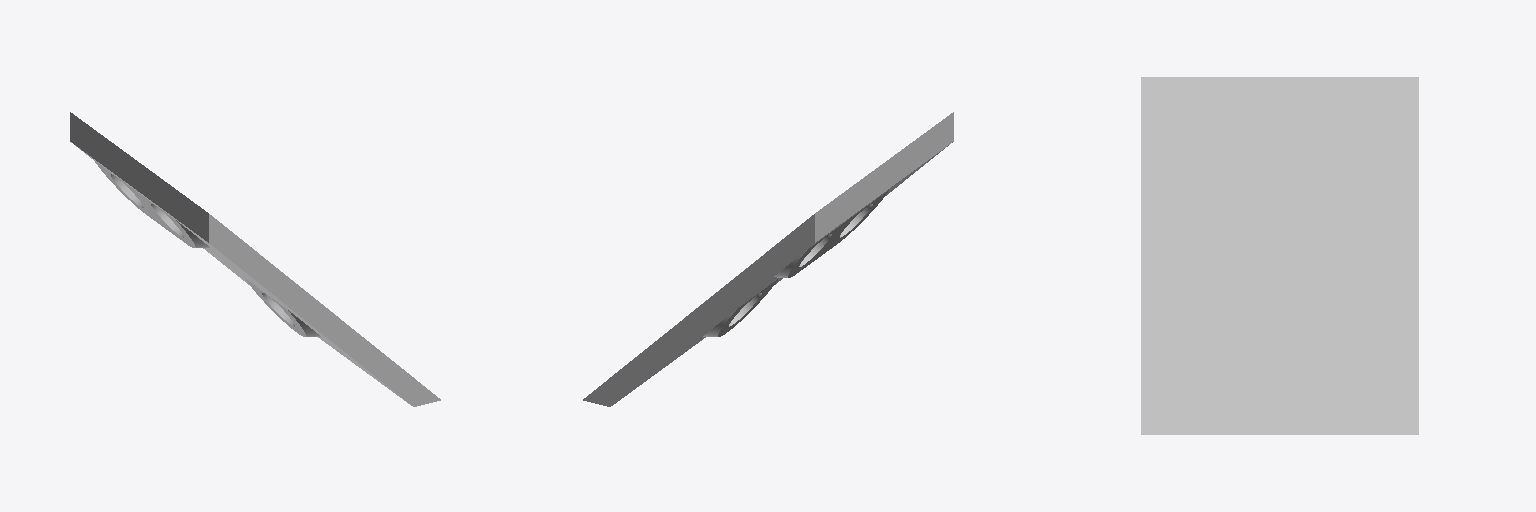
File: V5_Mirror Plate Vertical.obj
The picture shows the model from 3 angles: view 1: azimuth 30°, elevation 25°; view 2: azimuth 150°, elevation 25°; view 3: azimuth 270°, elevation 25°; orthographic projection.
Visible parts, largest first — view 1: Solid1:27; view 2: Solid1:27; view 3: Solid1:27.
Part boxes in pixels (left/top/right/bottom): Solid1:27: left=70, top=112, right=440, bottom=406; Solid1:27: left=583, top=112, right=953, bottom=406; Solid1:27: left=1141, top=77, right=1418, bottom=434.
Size of the model in its own units: 28.95 by 28.95 by 30.